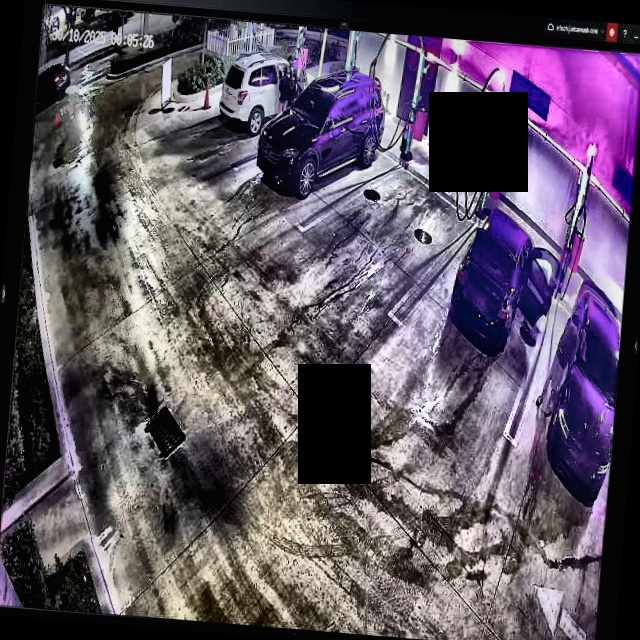Car: (255, 60, 388, 204), (446, 202, 562, 350)
